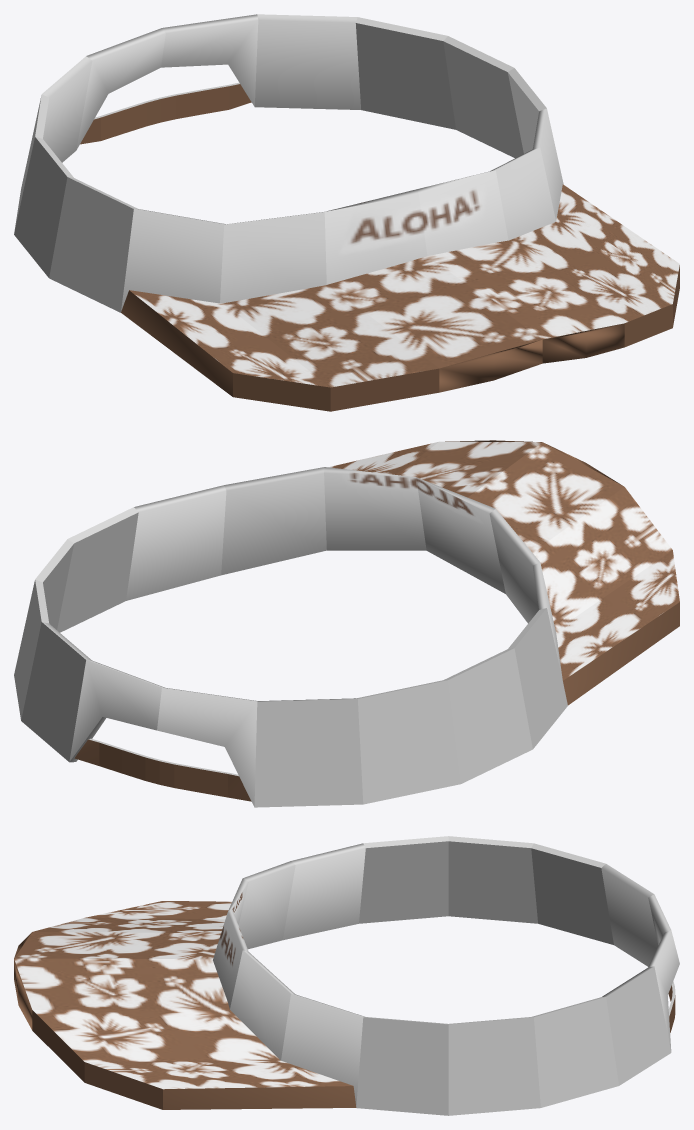
Rendered from hat_aloha_visor.glb.
3 views of the same model, one above another, from view 1: azimuth 30°, elevation 25°; view 2: azimuth 150°, elevation 25°; view 3: azimuth 270°, elevation 25° (orthographic). The views are drawn at different scales.
Visible parts, largest first — view 1: Hatmodel; view 2: Hatmodel; view 3: Hatmodel.
Part boxes in pixels (bbox=[...]): Hatmodel: bbox=[14, 14, 679, 411]; Hatmodel: bbox=[14, 440, 679, 807]; Hatmodel: bbox=[14, 836, 679, 1115].
Bounding box in the file's own units: 5.28 × 1.29 × 7.29.
2 materials, 2 textured.
